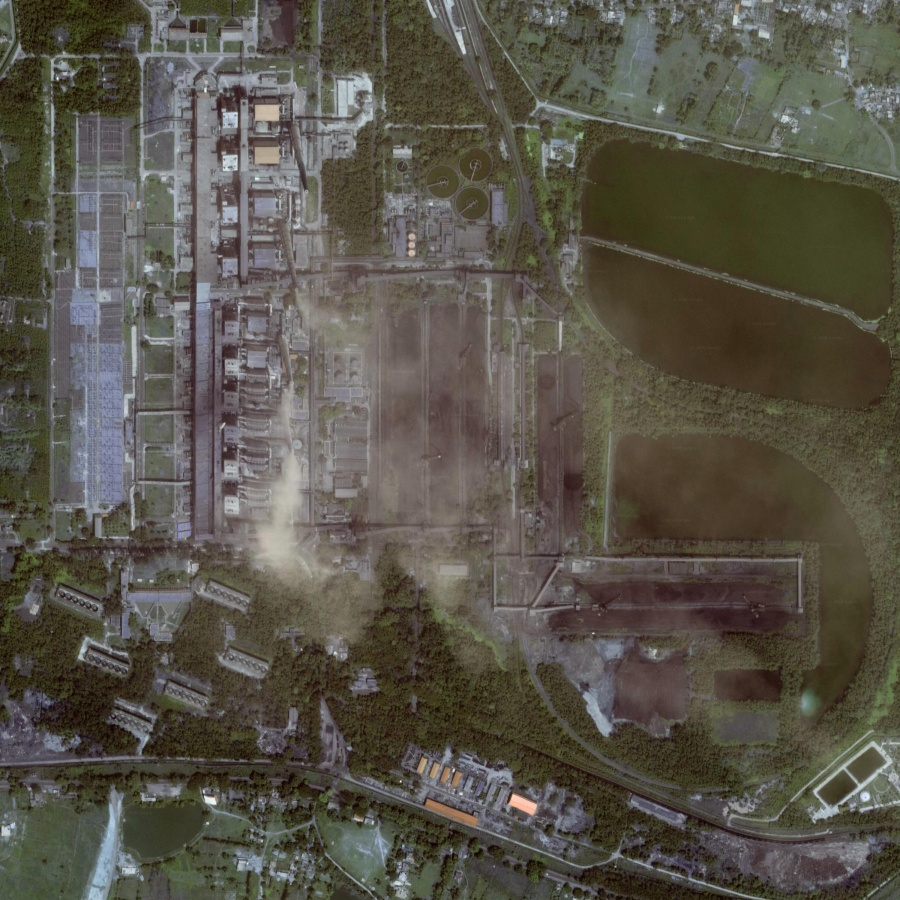PowerPlant: (265, 273, 596, 594), (529, 556, 813, 742)
